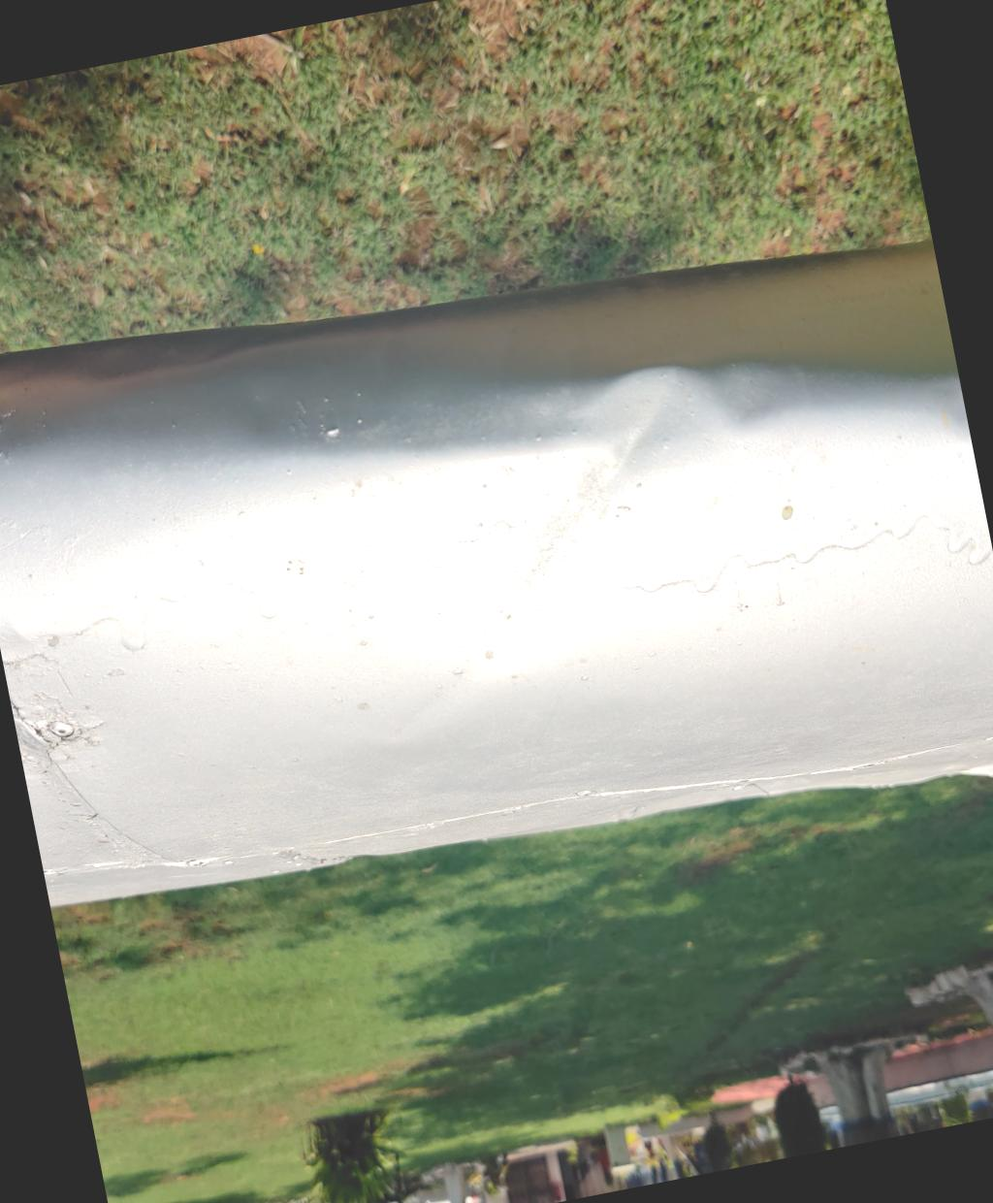dent: (367, 282, 865, 732)
